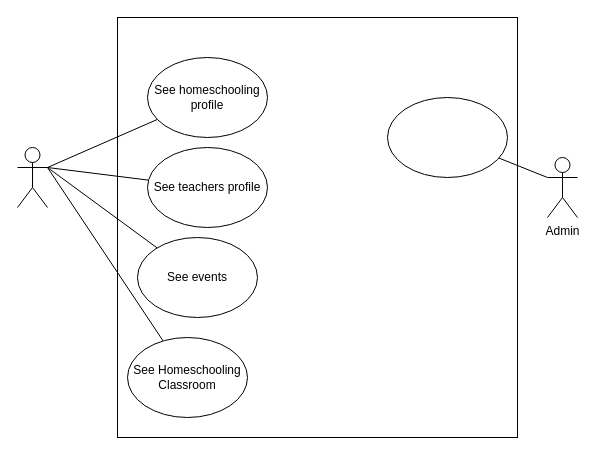
The diagram is 597 pixels wide and 455 high, and some of its shapes have lost their labels. Here are the shapes that lost their labels. From the top down, the centre of each, then its label:
At pixel 447 137: "Input Events".
At pixel 32 177: "Actor".
